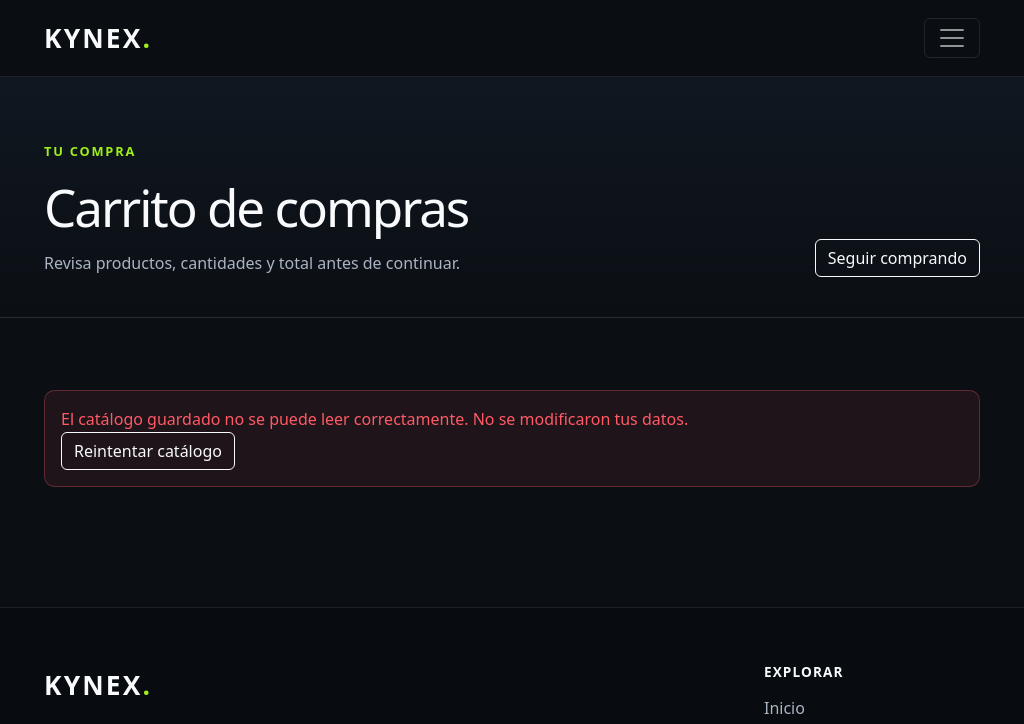
Gestión de productos integrada › muestra el fallo del catálogo sin borrar la compra y permite reintentar
Check: the message shows "No se modificaron tus datos", box [61,408,688,430]
Step 1. Click the button "Reintentar catálogo" → (148, 451), box [61,432,235,470]
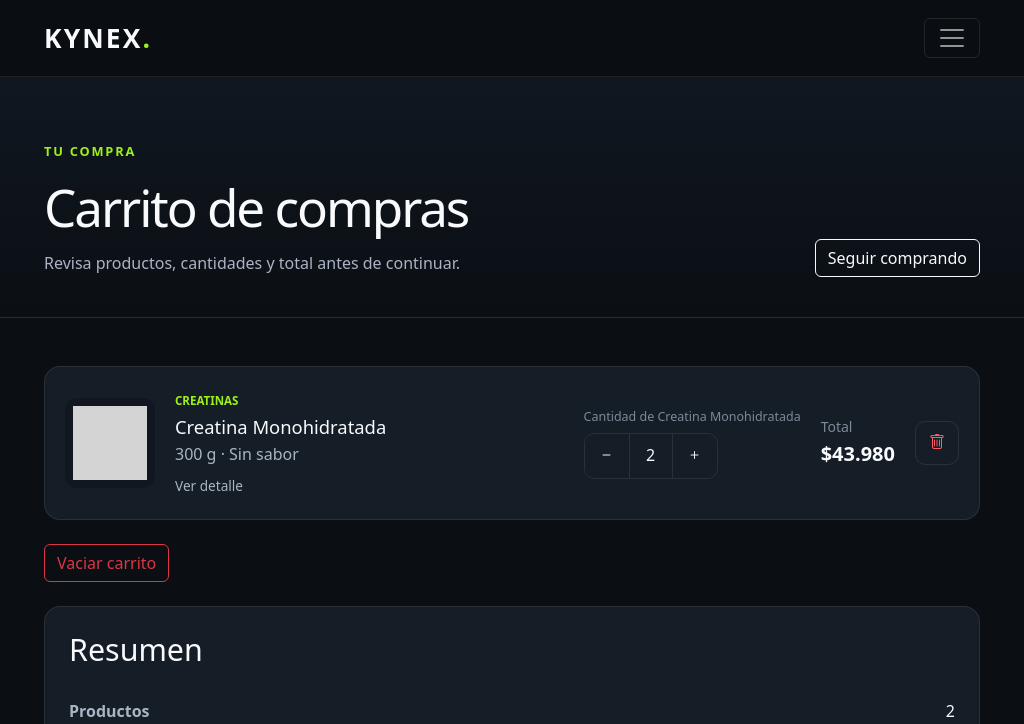
Check: the text named "Cantidad actual" reads "2", box [646,444,655,466]
